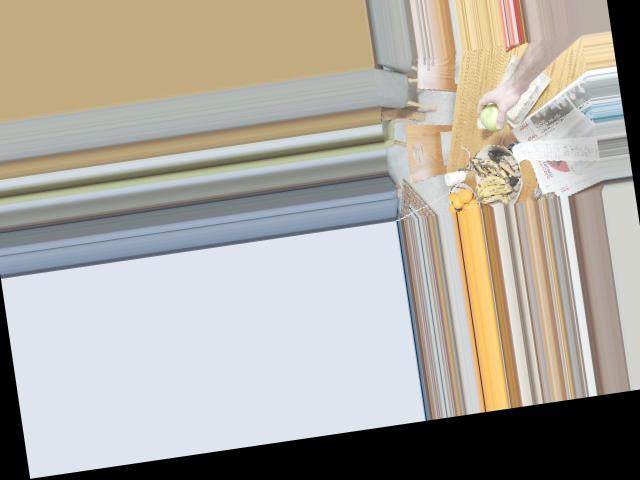apple: (476, 100, 510, 133)
